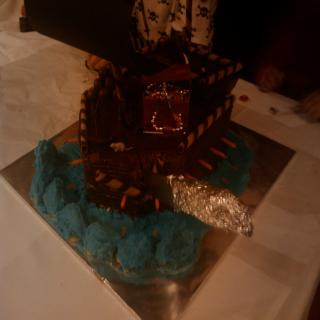Cake: (78, 35, 240, 214)
